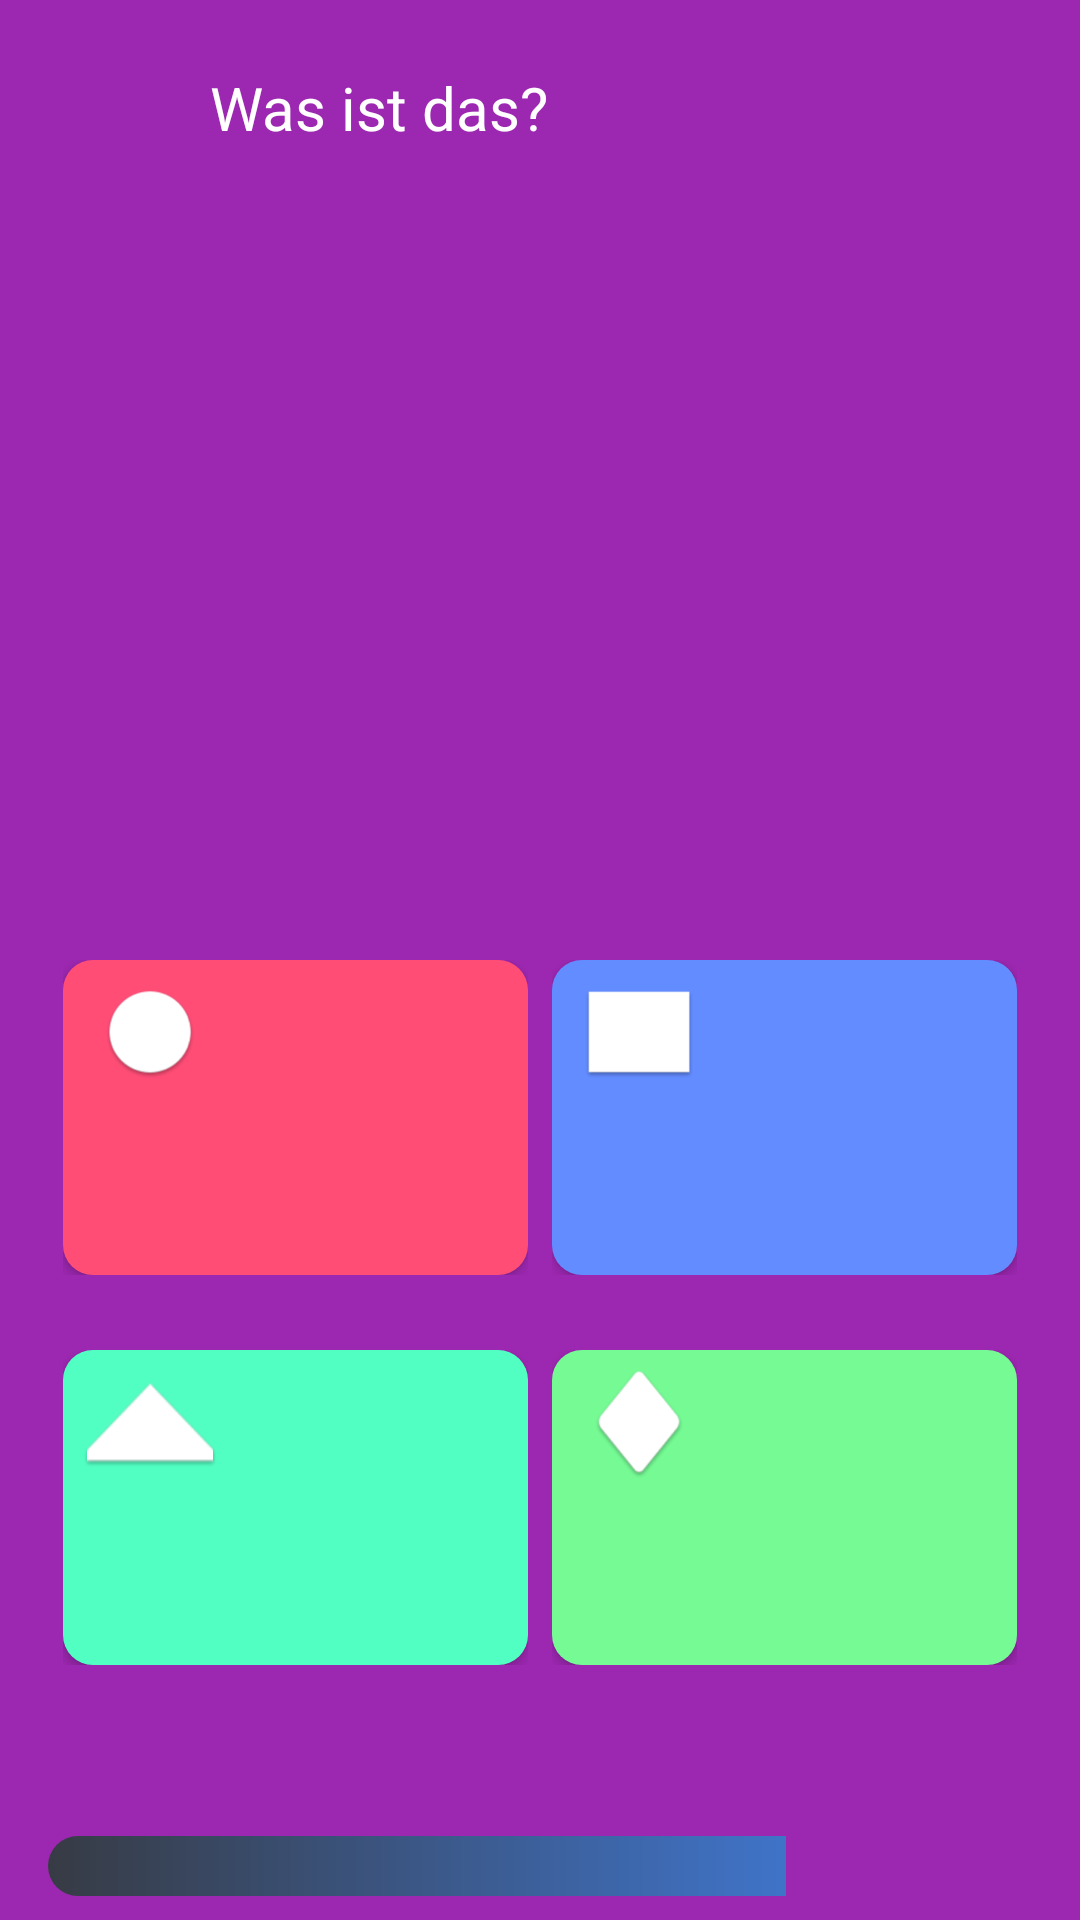

Screen size 1080×1920. Icon name, then its box in pixels as [x1, y1, x2, y2]:
circle: [109, 991, 192, 1076]
diamond: [598, 1371, 680, 1475]
square: [588, 991, 691, 1075]
triangle: [86, 1383, 214, 1464]
